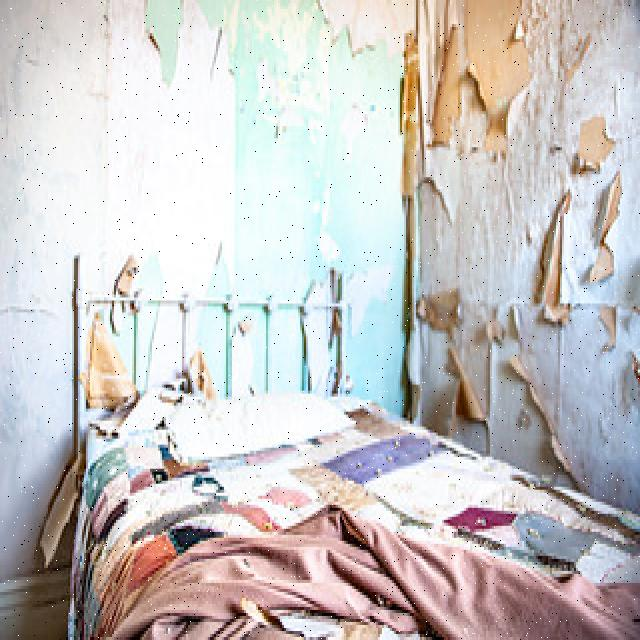bed: (85, 289, 640, 640)
